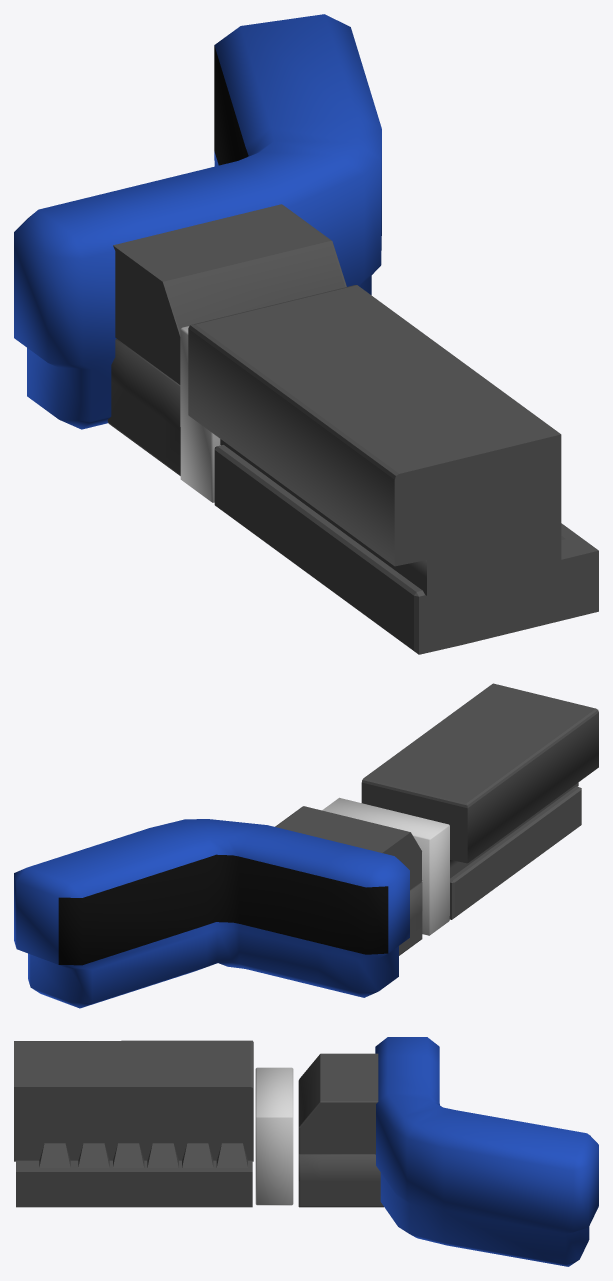
File: Printer lowpoly.FBX
3 renders of one model, top to bottom at view 1: azimuth 30°, elevation 25°; view 2: azimuth 150°, elevation 25°; view 3: azimuth 270°, elevation 25°, orthographic. The views are drawn at different scales.
Parts seen in each view (by area): view 1: Box002, ChamferBox002, Box003, Object001, Box001, ChamferBox001; view 2: ChamferBox002, Box002, Box003, ChamferBox001, Object001, Box001; view 3: ChamferBox002, Box002, Box003, Object001, ChamferBox001, Box001, Pyramid003, Pyramid004, Pyramid006, Pyramid002, Pyramid005, Pyramid007.
Part boxes in pixels (<box>): Box002: <box>188,285,561,595</box>; ChamferBox002: <box>14,14,381,429</box>; Box003: <box>214,445,598,654</box>; Object001: <box>113,204,346,384</box>; Box001: <box>107,339,180,475</box>; ChamferBox001: <box>180,326,220,502</box>; ChamferBox002: <box>14,819,409,1008</box>; Box002: <box>361,683,598,878</box>; Box003: <box>449,786,581,919</box>; ChamferBox001: <box>322,797,449,935</box>; Object001: <box>275,806,422,889</box>; Box001: <box>399,882,422,955</box>; ChamferBox002: <box>375,1037,598,1266</box>; Box002: <box>14,1040,253,1161</box>; Box003: <box>16,1160,252,1207</box>; Object001: <box>298,1053,378,1154</box>; ChamferBox001: <box>255,1067,293,1205</box>; Box001: <box>298,1154,383,1207</box>; Pyramid003: <box>182,1143,213,1167</box>; Pyramid004: <box>147,1143,178,1167</box>; Pyramid006: <box>78,1143,109,1167</box>; Pyramid002: <box>216,1143,247,1167</box>; Pyramid005: <box>113,1143,144,1167</box>; Pyramid007: <box>39,1143,70,1167</box>.
Size of the model in its own units: 822 by 340 by 1550.
